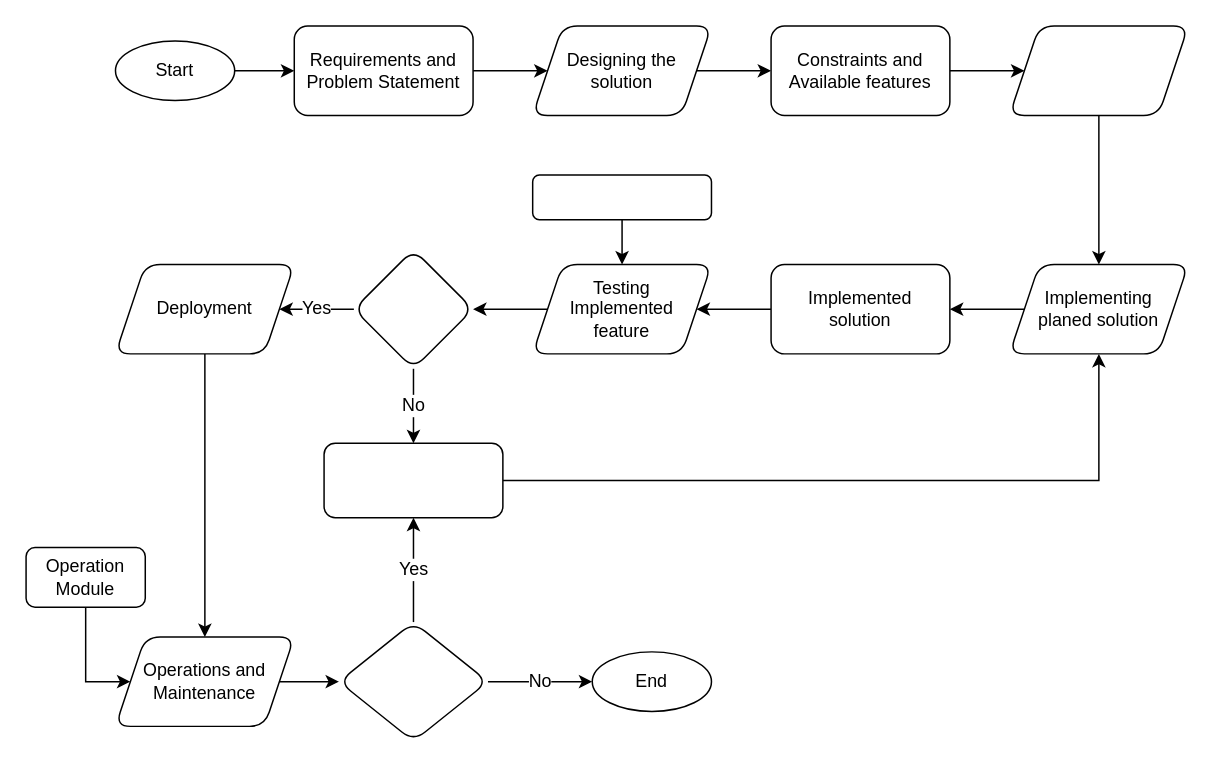
The diagram is 1214 pixels wide and 767 high, and some of its shapes have lost their labels. Each missing label, with the centre of its shape:
Any ambiguities?: the point at 412,681
Defining Delivery Plan: the point at 1098,70
Feature updates and requirements: the point at 413,480
Test cases: the point at 621,197
Tests passed?: the point at 412,308
